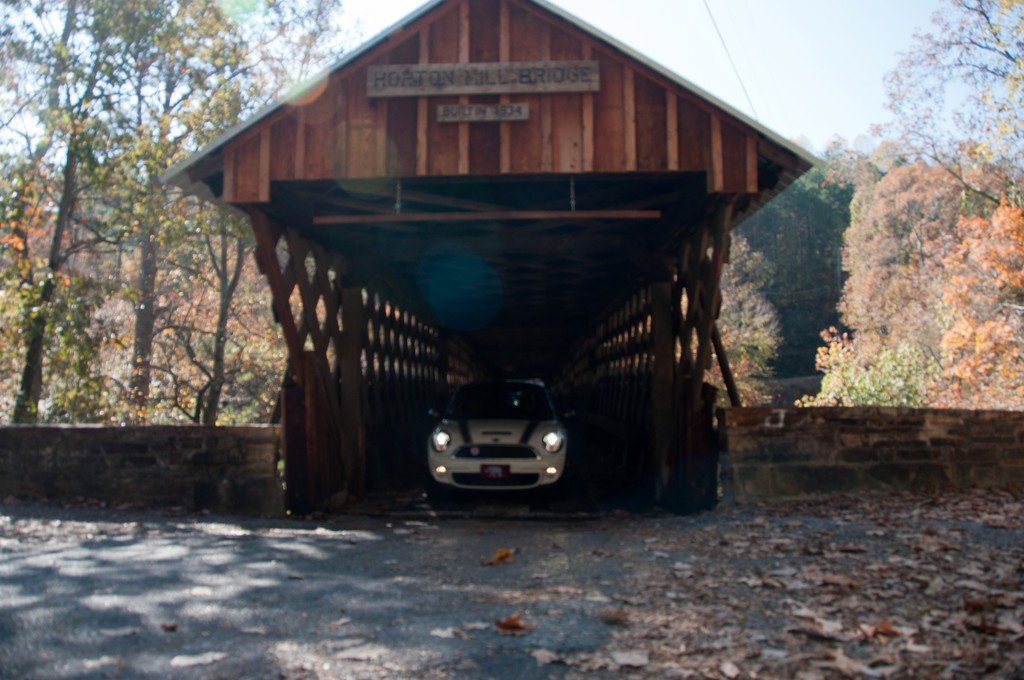Car: (423, 376, 573, 502)
